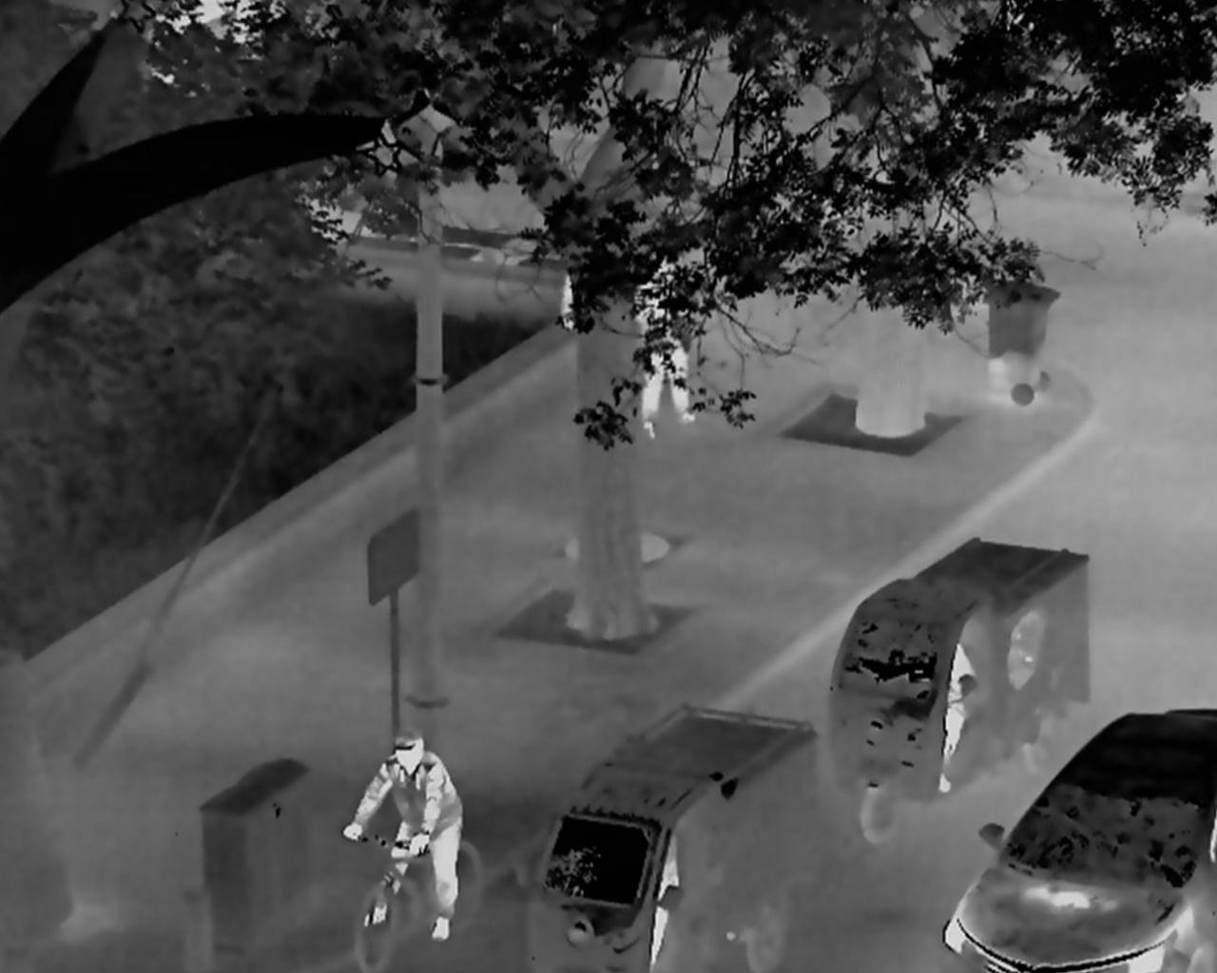person: (342, 728, 463, 941), (634, 247, 697, 440), (936, 640, 976, 794), (647, 829, 680, 973)
